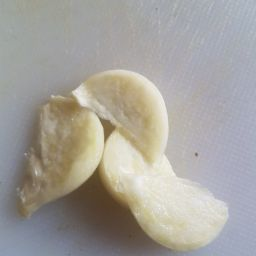Garlic cloves: (2, 58, 232, 252), (9, 74, 233, 251), (106, 125, 233, 254), (25, 88, 104, 242), (67, 59, 178, 160)
